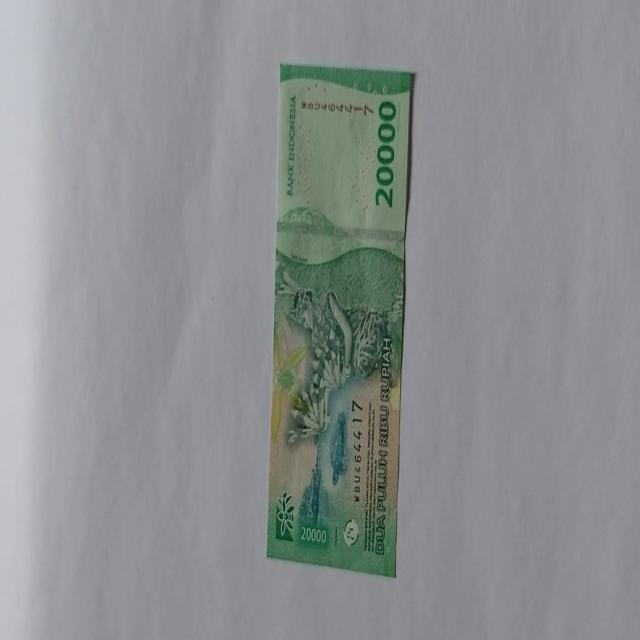dua puluh ribu rupiah: (265, 62, 415, 577), (273, 206, 405, 449)
